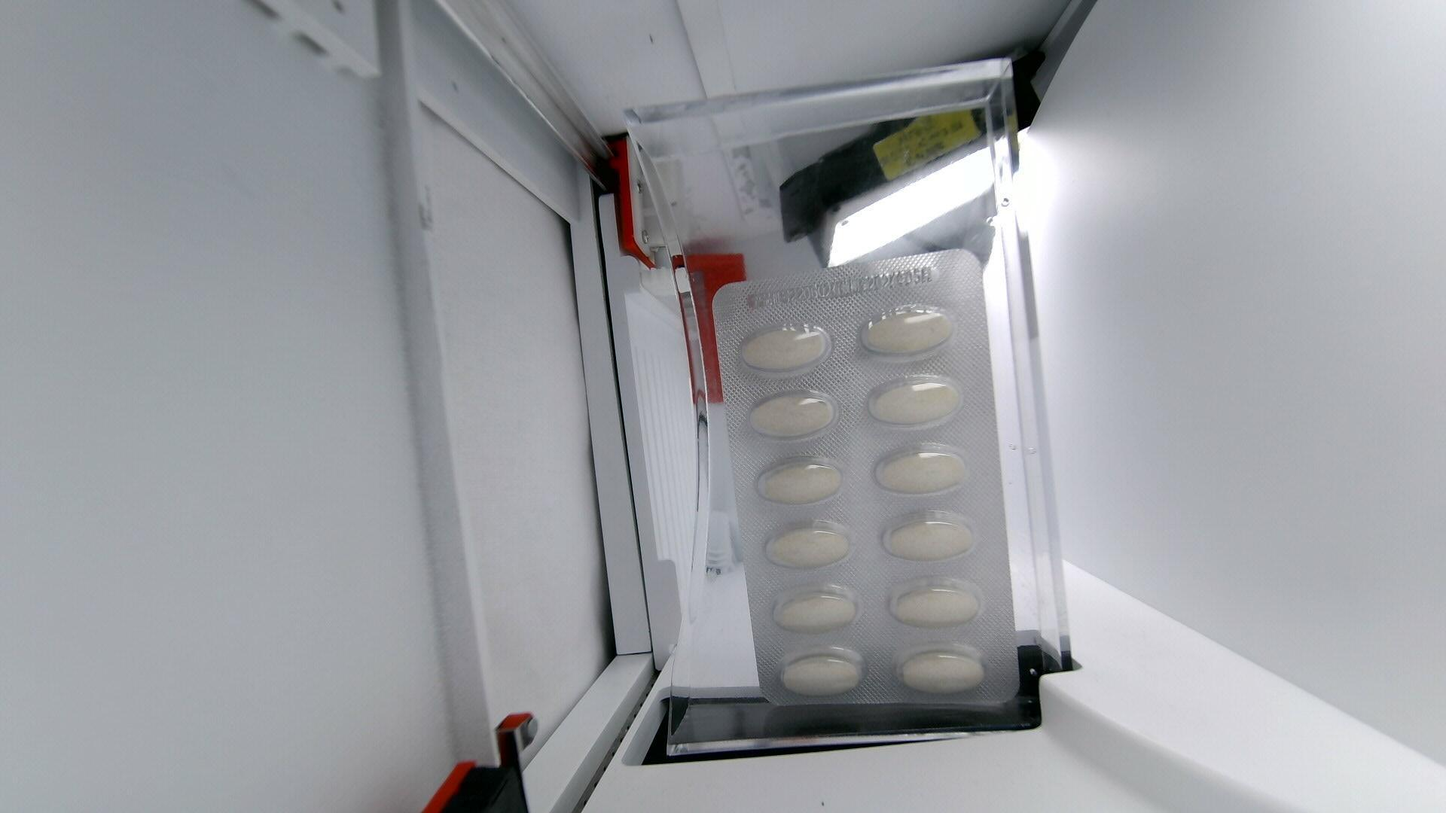Light Front: (713, 247, 1020, 705)
Pill Front: (889, 577, 992, 629), (738, 323, 834, 376), (862, 299, 950, 356), (868, 376, 966, 427), (875, 446, 967, 495), (883, 511, 974, 560), (898, 645, 984, 693), (781, 647, 864, 696), (750, 391, 836, 437), (774, 584, 858, 631), (758, 457, 841, 504), (767, 525, 849, 568)
